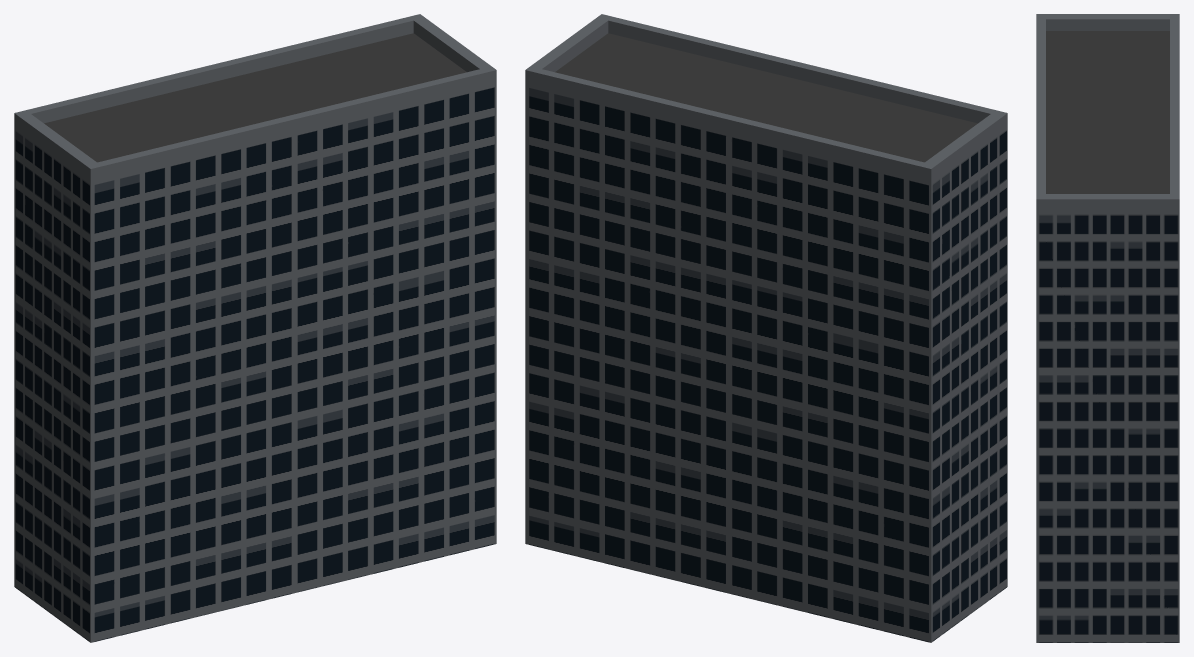
Rendered from SM_Env_Background_Building_Skinny_05.fbx.
3 views of the same model, side by side, from view 1: azimuth 30°, elevation 25°; view 2: azimuth 150°, elevation 25°; view 3: azimuth 270°, elevation 25° (orthographic). The views are drawn at different scales.
Visible parts, largest first — view 1: SM_Env_Background_Building_Skinny_05; view 2: SM_Env_Background_Building_Skinny_05; view 3: SM_Env_Background_Building_Skinny_05.
Part boxes in pixels (x1,y1,x2,y2): SM_Env_Background_Building_Skinny_05: (14, 14, 496, 642); SM_Env_Background_Building_Skinny_05: (525, 14, 1007, 642); SM_Env_Background_Building_Skinny_05: (1036, 14, 1179, 642).
Bounding box in the file's own units: 3303 × 3684 × 1079.
